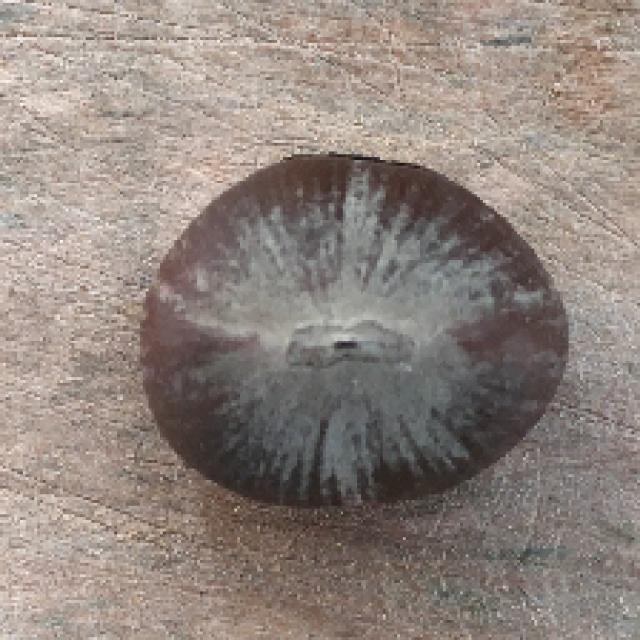damagedHazelnut: (132, 141, 577, 513)
